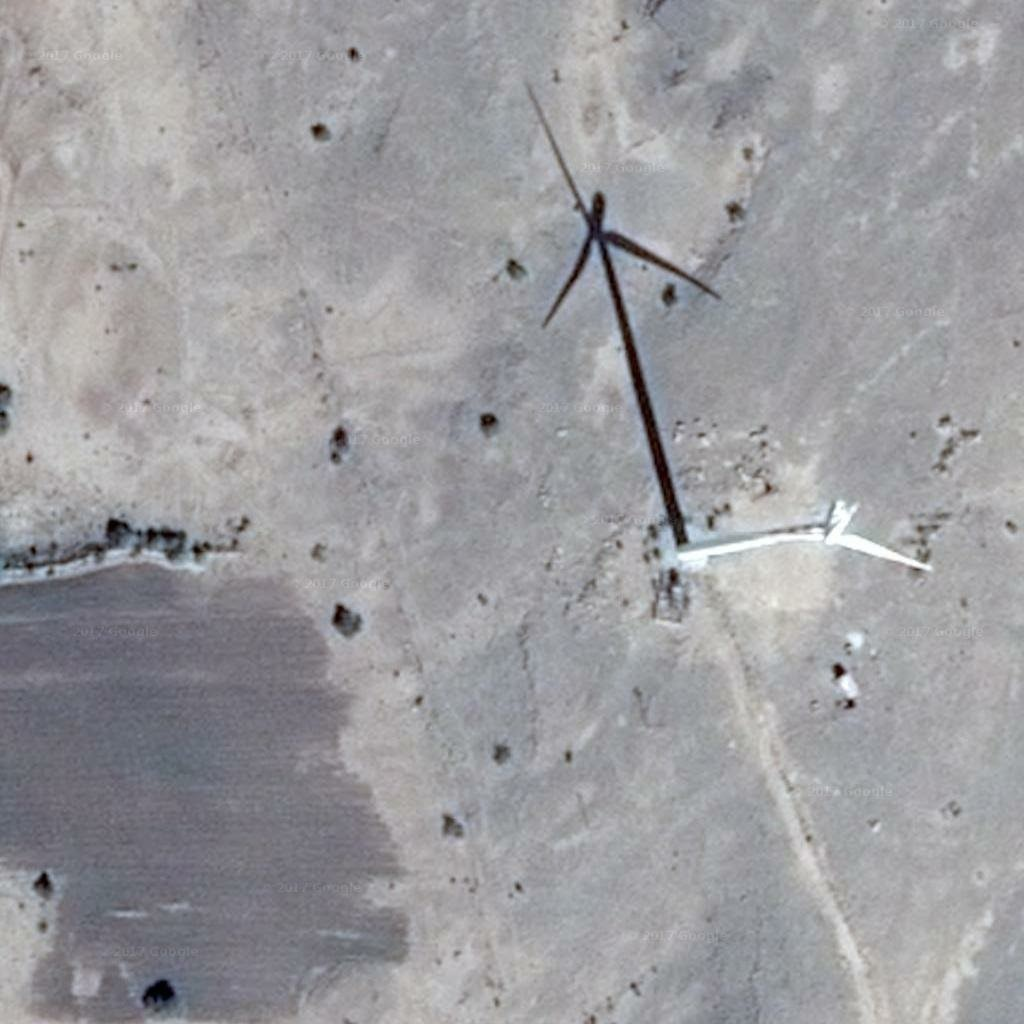Windmill: (517, 73, 708, 541)
